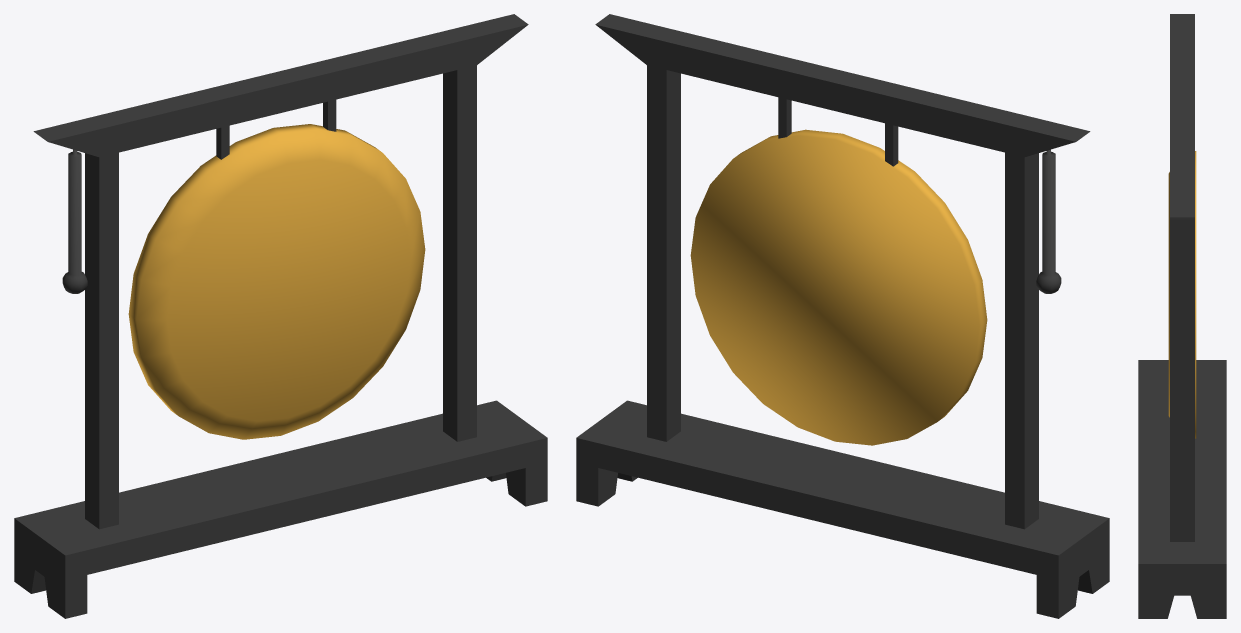
File: gong.fbx
The picture shows the model from 3 angles, left to right: view 1: azimuth 30°, elevation 25°; view 2: azimuth 150°, elevation 25°; view 3: azimuth 270°, elevation 25°; orthographic projection. The views are drawn at different scales.
Visible parts, largest first — view 1: Gong; view 2: Gong; view 3: Gong.
Boxes of the visible parts, x1,y1,x2,y2 form: Gong: (14,14,547,618); Gong: (576,14,1109,618); Gong: (1138,14,1226,618).
Size of the model in its own units: 141 by 25.81 by 129.
